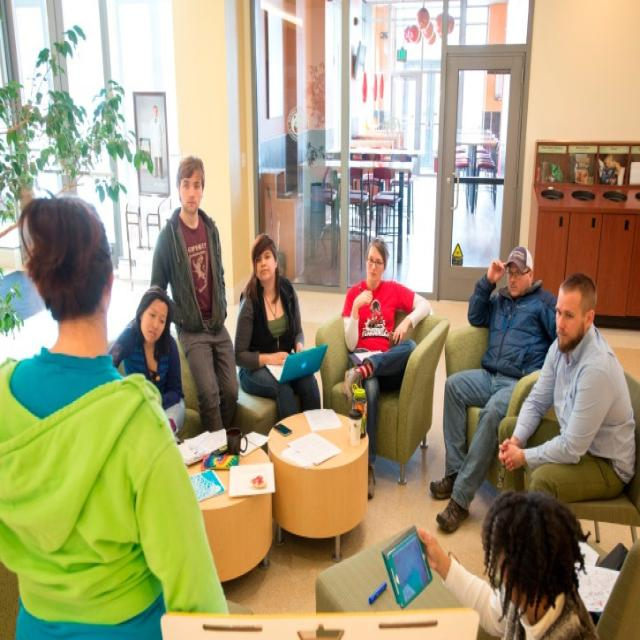body: (0, 186, 235, 639), (428, 243, 557, 535), (496, 271, 637, 504), (415, 486, 600, 640), (338, 226, 432, 502), (148, 154, 240, 434), (232, 230, 323, 425), (107, 283, 188, 437)
